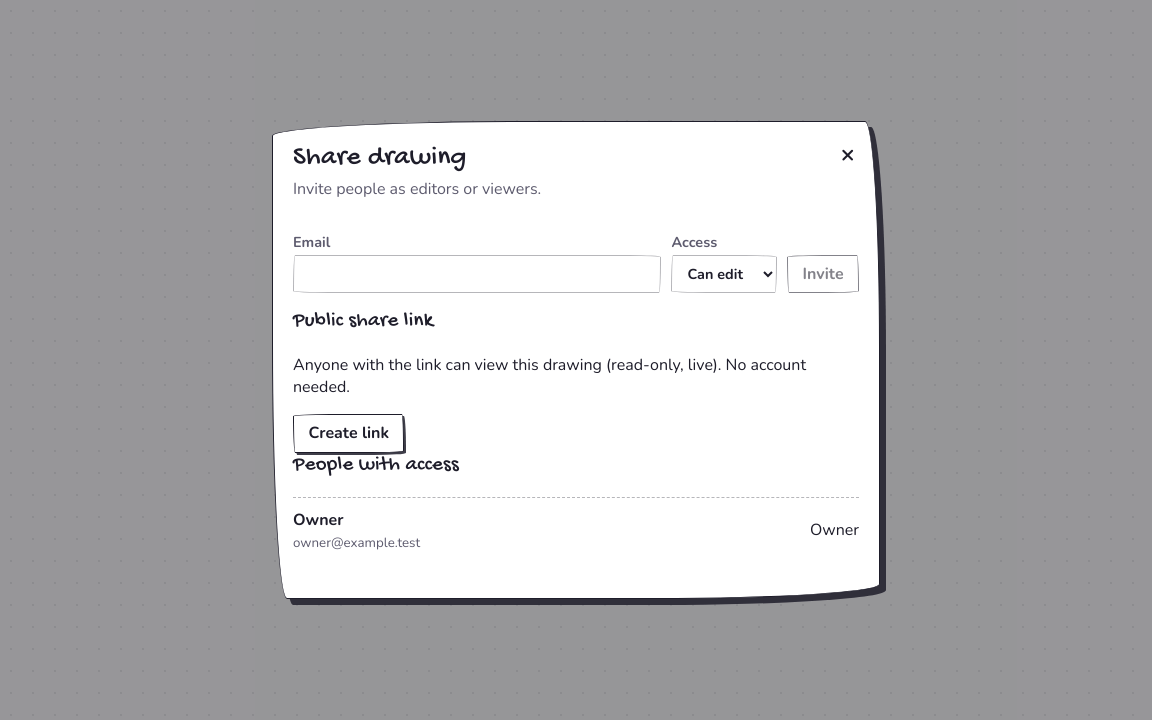
Test: SharingDialog › shows the manual invitation link when SMTP is unavailable
Type "new@example.test" into the field labelled "Email" at (477, 274), box [293,255,661,293]
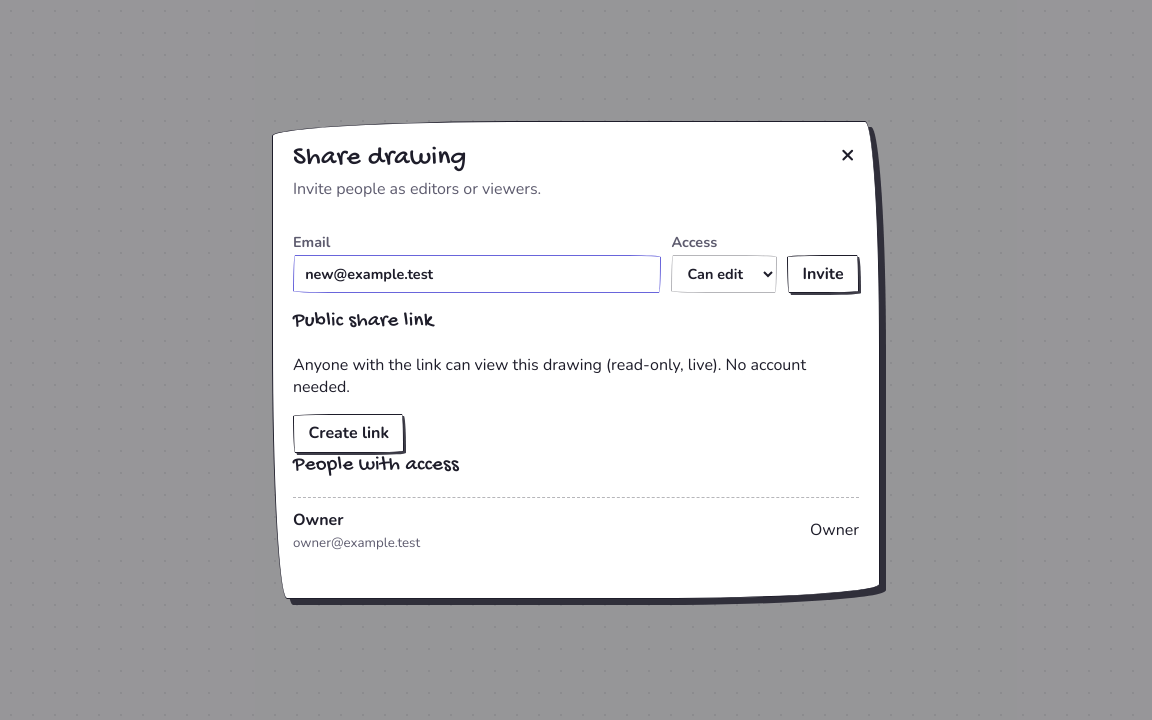
Click the button "Invite" at (823, 274), box [787,255,859,293]
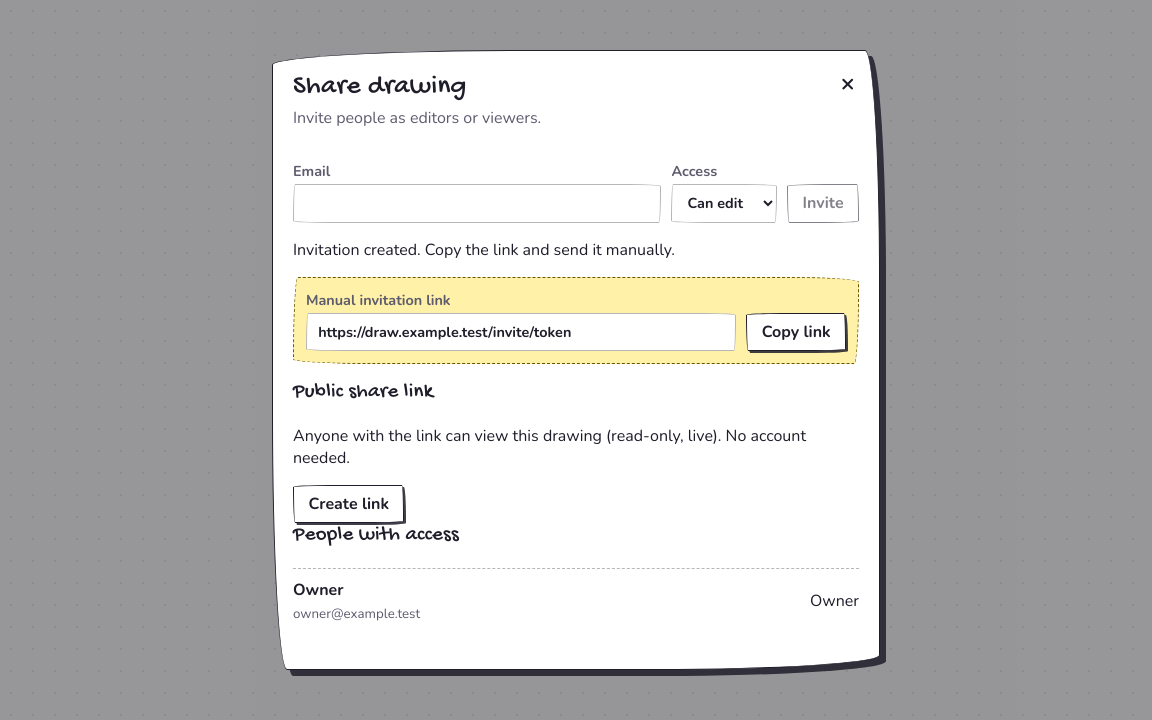
Expected: the field labelled "Manual invitation link" holds "https://draw.example.test/invite/token", [306,313,736,351]
